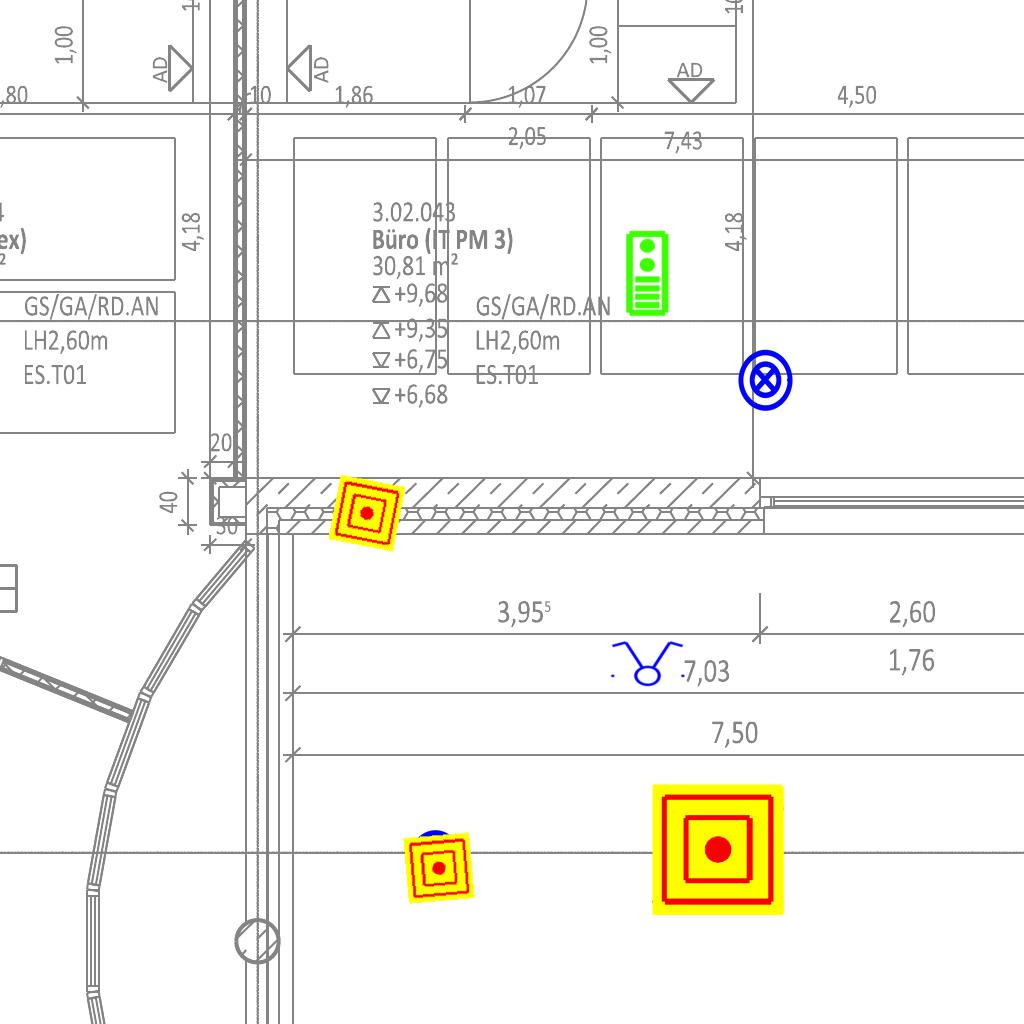Gegensprechanlage_mit_Video: (623, 229, 670, 317)
NAM-Nichtautomatischer_Melder: (652, 784, 784, 916), (328, 474, 406, 552), (403, 832, 475, 904)
Serienschalter: (605, 639, 689, 687)
Taster_beleuchtet: (732, 347, 798, 413), (403, 828, 469, 894)
